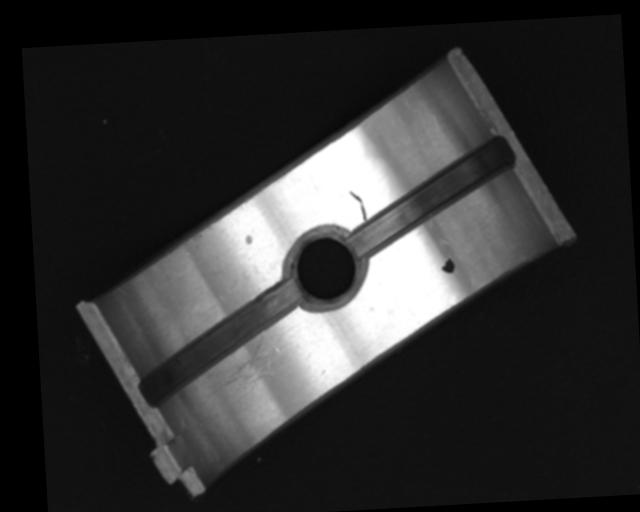blot: (439, 255, 456, 273)
bruise: (244, 234, 253, 246)
gap: (134, 278, 305, 406), (351, 137, 516, 254)
hole: (284, 227, 366, 307)
nick: (349, 190, 367, 223)
scratch: (201, 331, 280, 399)
